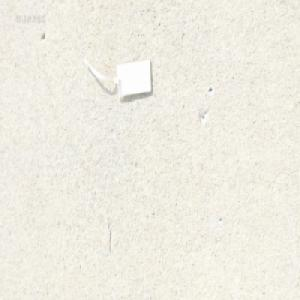LuggageTag: (81, 54, 153, 100)
